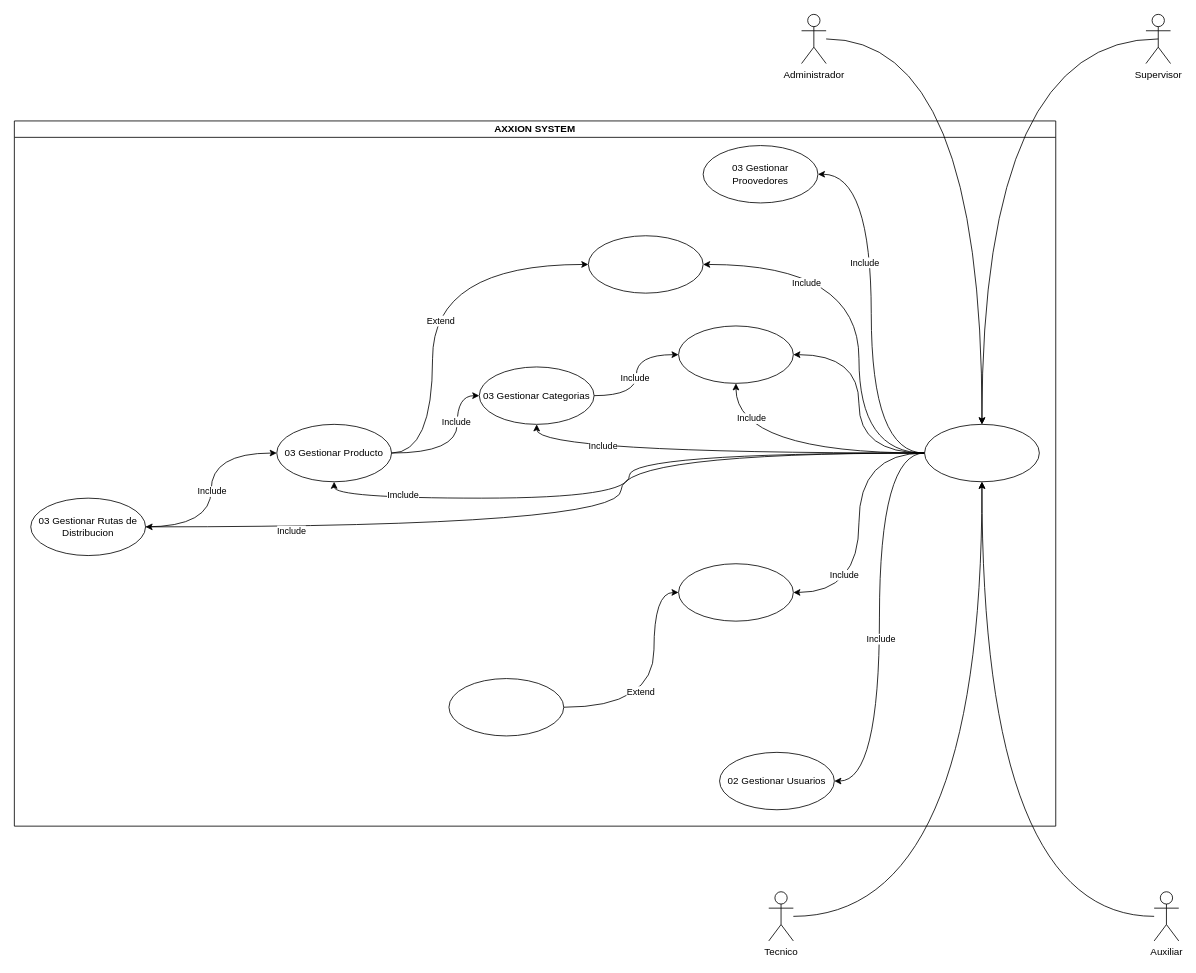
Image size: 1196x973. Some labels were removed from this diagram. The box of each missing label's shape, as (x1, y1, x2, y2) in pixels:
01 Iniciar sesion: (924, 424, 1039, 482)
03 Gestionar Alertas: (678, 563, 793, 621)
03 Gestionar Mantenimientos: (588, 235, 703, 293)
03 Gestionar Reportes: (448, 678, 564, 736)
03 Gestionar Subcategorias: (678, 325, 793, 383)
